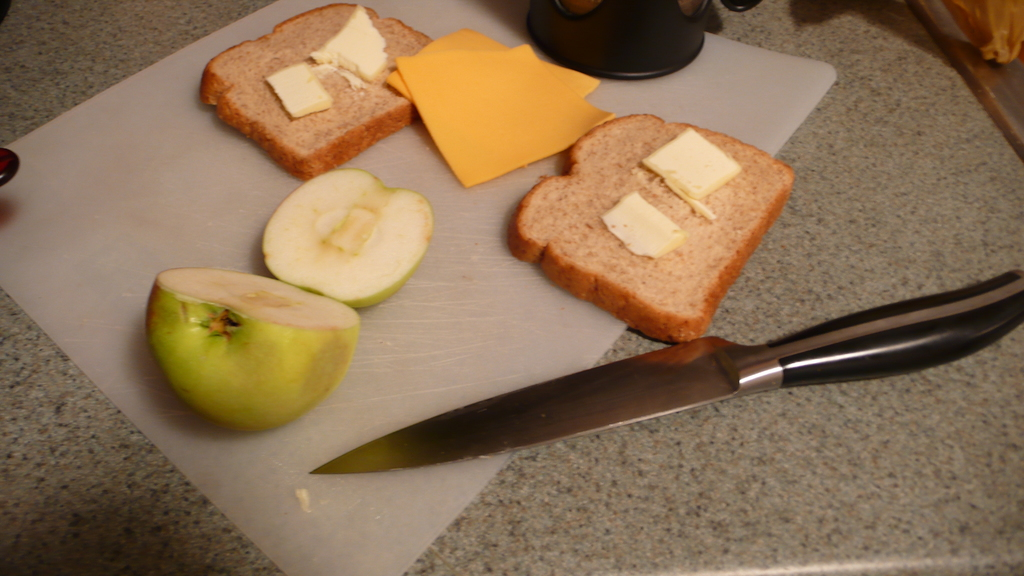Apple: (148, 263, 350, 430), (259, 168, 433, 309)
